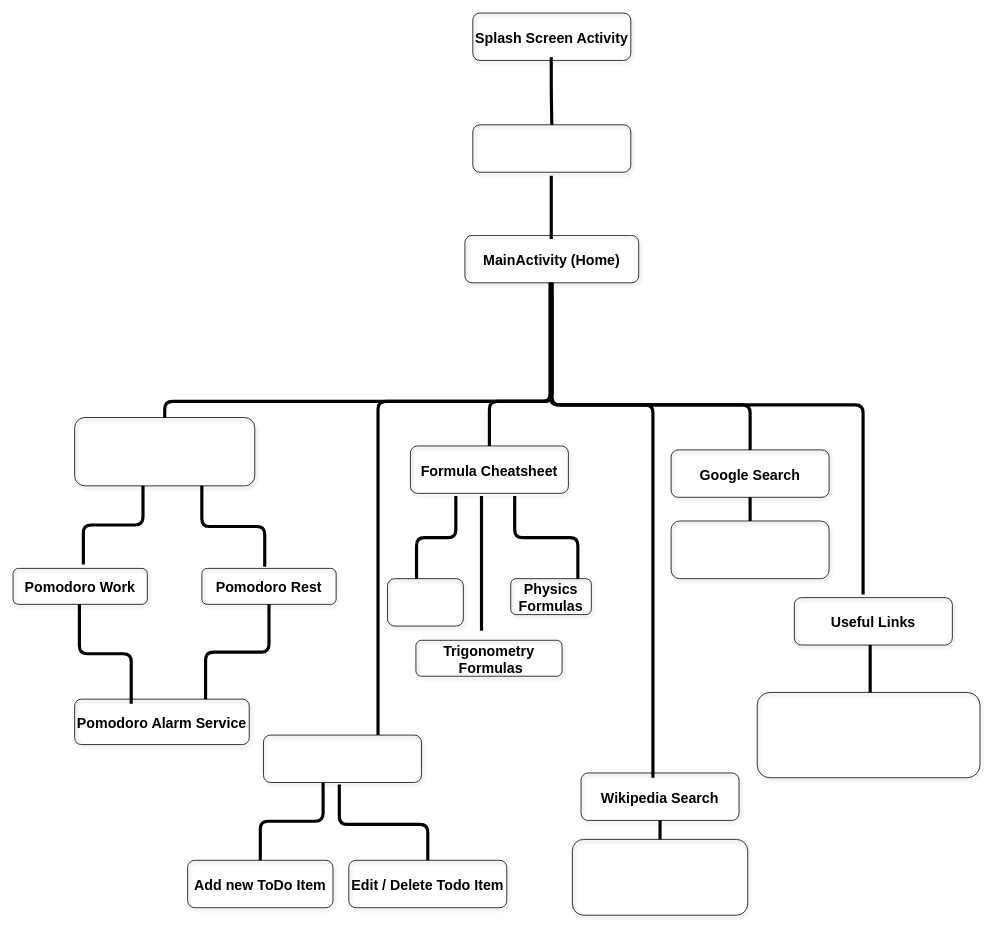
This 993x928 diagram has some shape labels left out. The shapes that lost their labels are listed below. From the top down, each one's centre as x and y in pixels, then its label:
At (552,149): "Sign In Activity".
At (165,452): "Pomodoro Timer Activity".
At (750,550): "Google search page in browser".
At (426,603): "Basic Formulas".
At (869,735): "Respective link in browser or a supporting app if available (like youtube)".
At (343,759): "Todo List".
At (660,878): "Wikipedia page for query in default browser".
